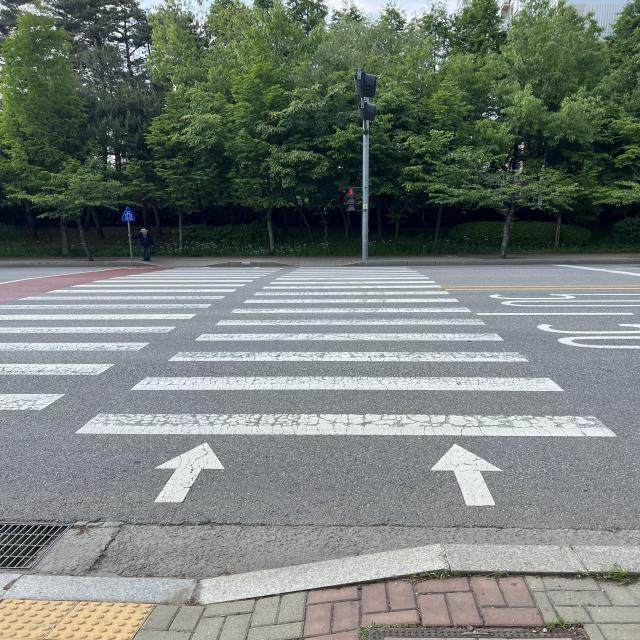crosswalk: (2, 243, 640, 562)
red-crossing: (338, 184, 364, 222)
